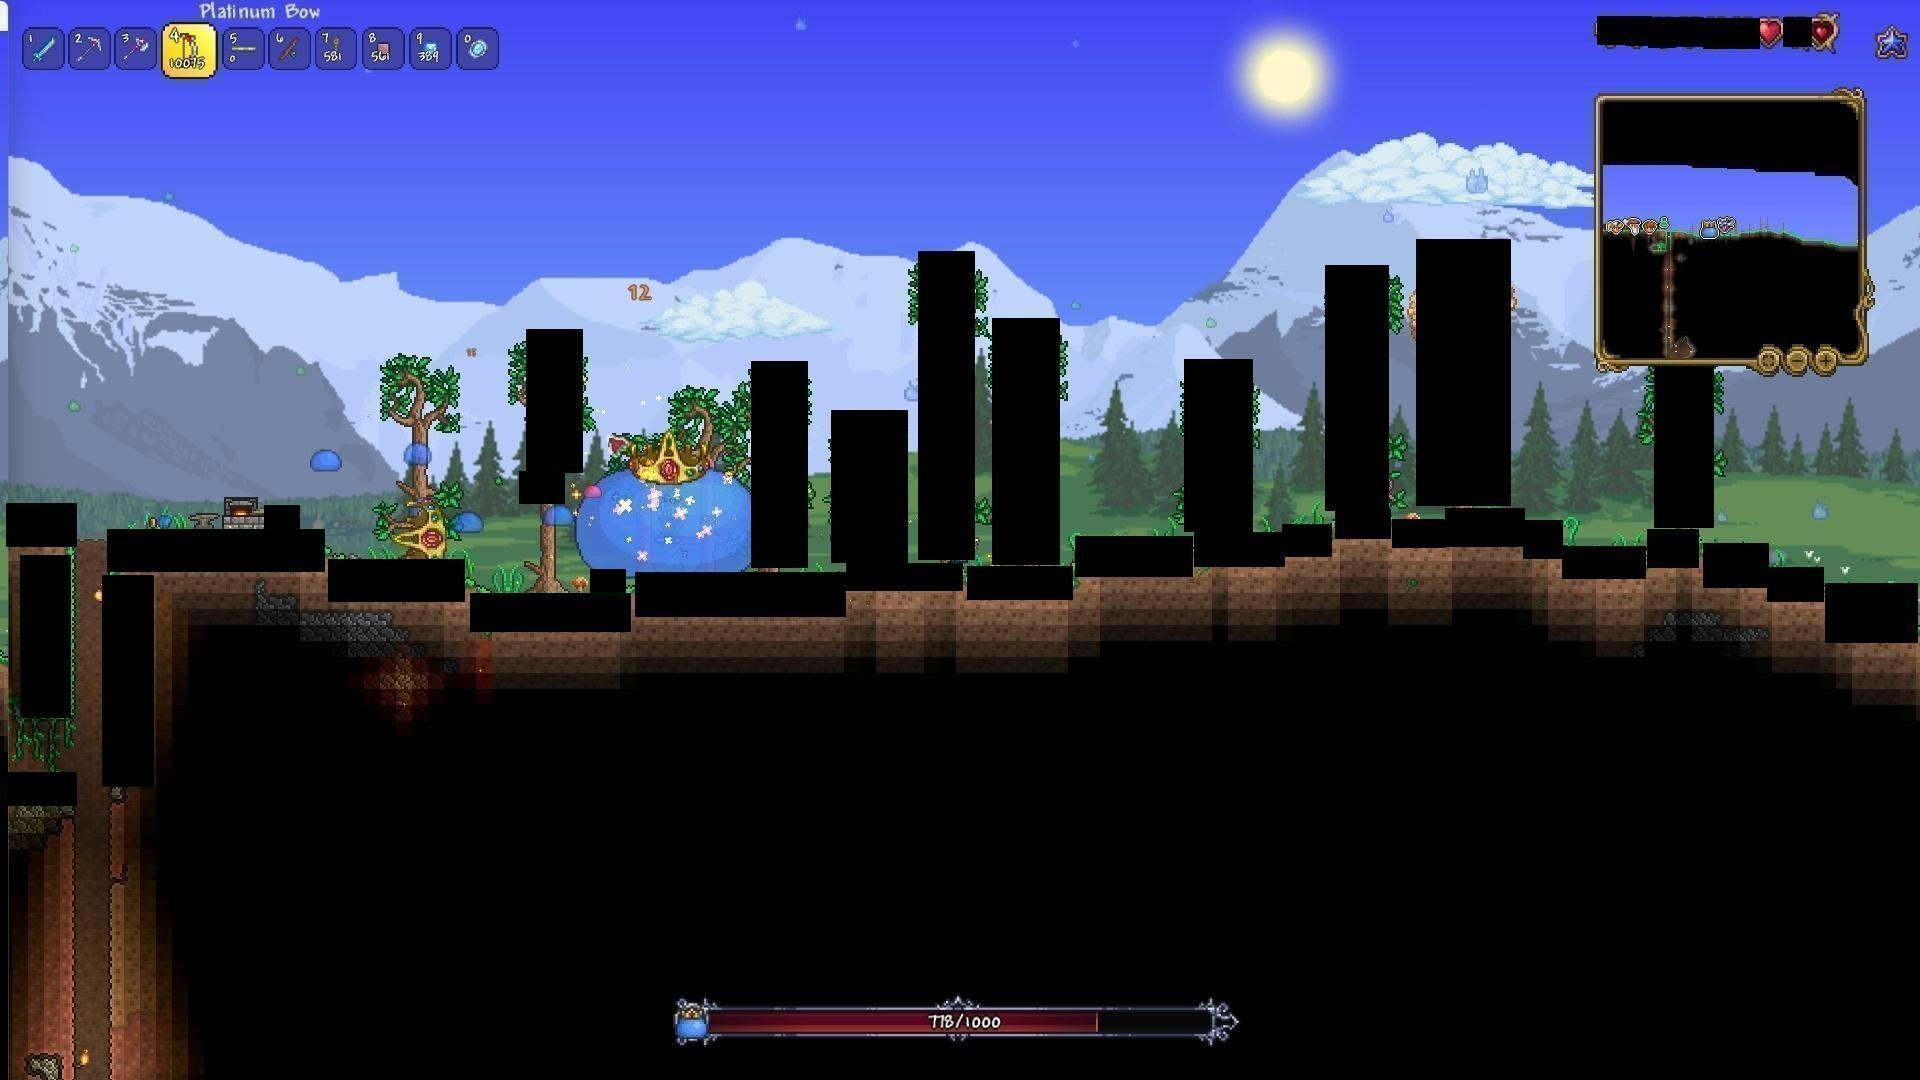heart: (1756, 18, 1784, 47)
slime: (305, 446, 351, 475), (450, 510, 491, 537), (401, 442, 435, 469), (541, 505, 579, 529), (583, 483, 604, 498)
tree: (373, 342, 464, 444)
